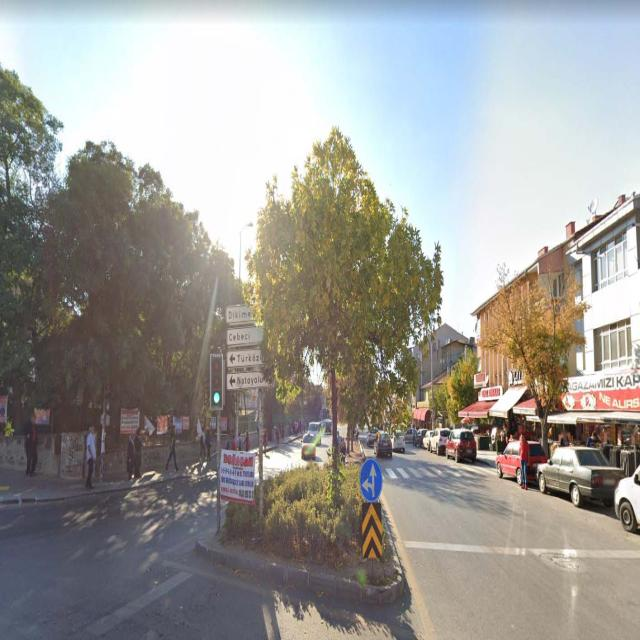ilerisol: (360, 458, 382, 502)
yesil: (210, 353, 222, 408)
